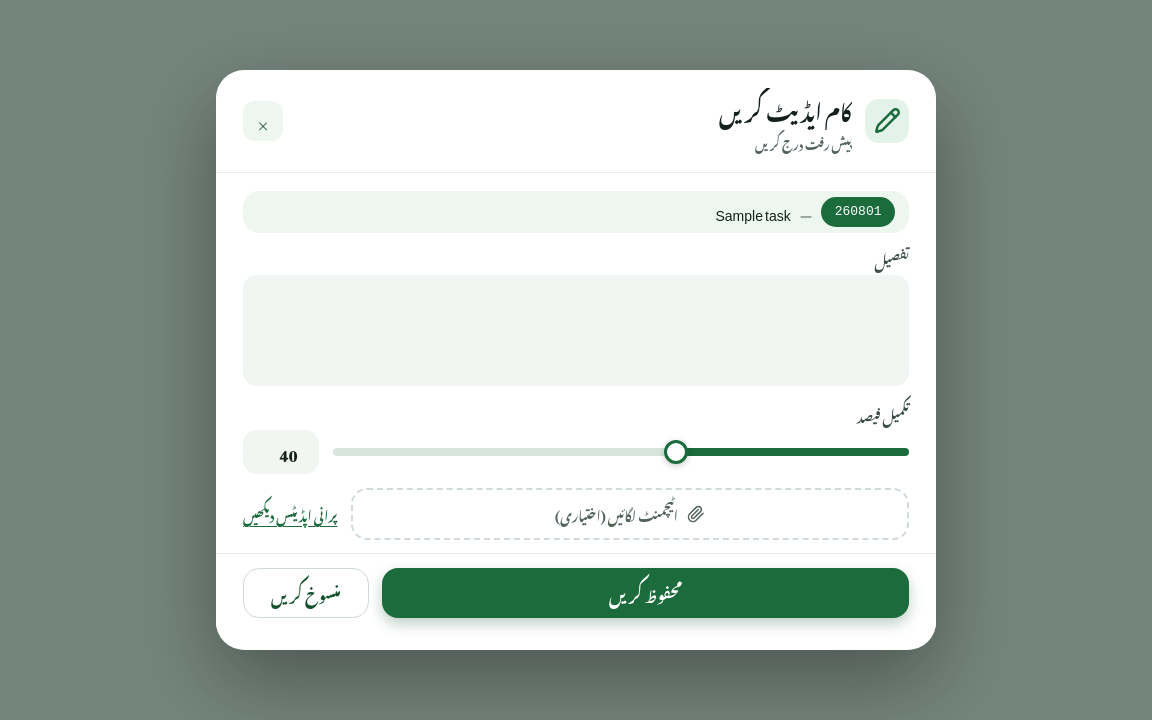
Test: UpdateModal — the slider and the number box stay in sync › typing in the number box moves the slider
The width and height of the screenshot is (1152, 720).
Replace the text in the number field labelled "تکمیل فیصد" with "20": (281, 452) [243,430,319,474]
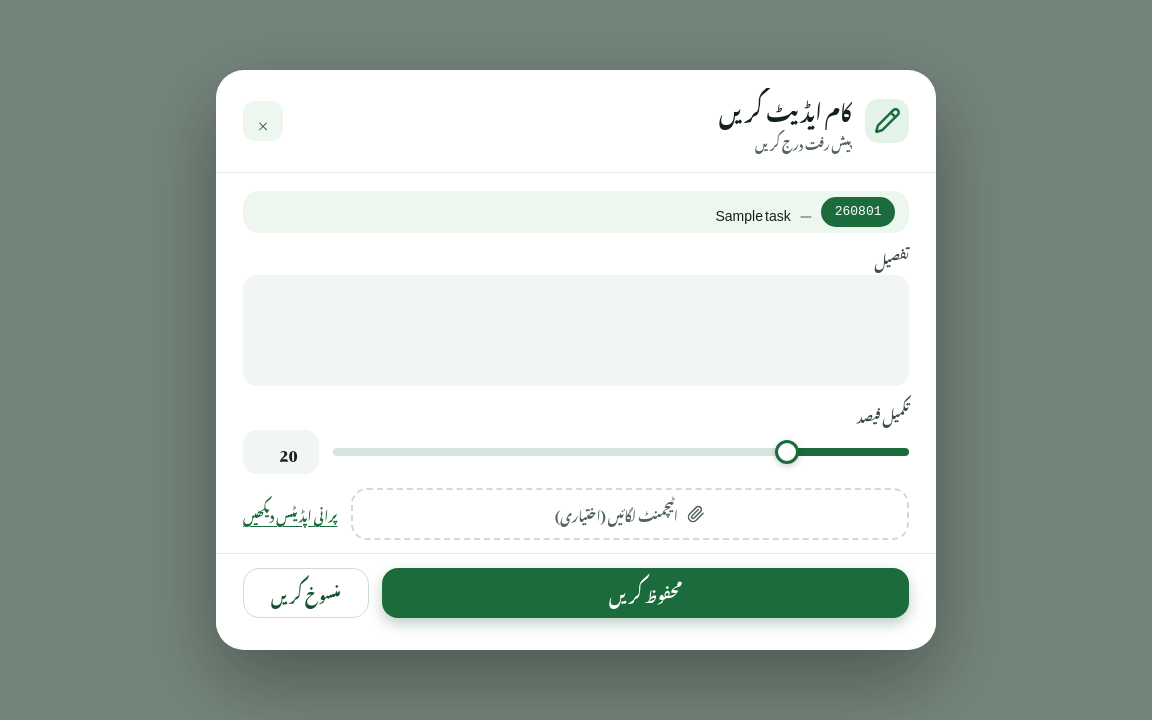
Now the slider named "Completion % slider" holds "20", box [333,430,909,474]
